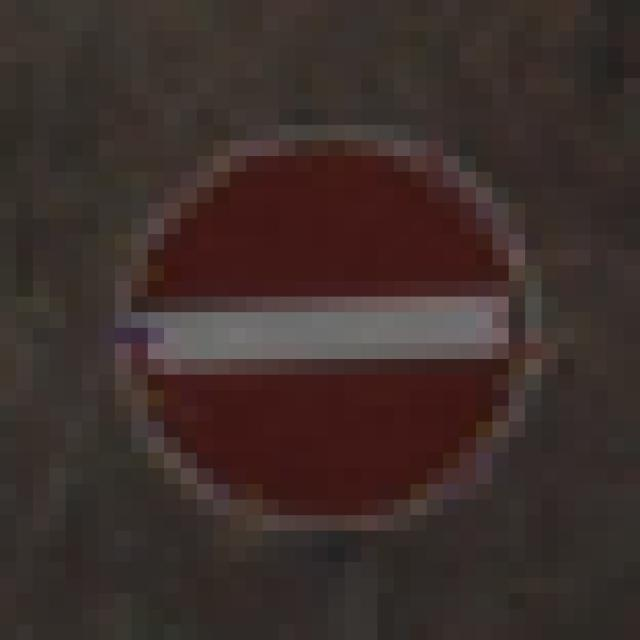No Entry: (83, 95, 559, 563)
